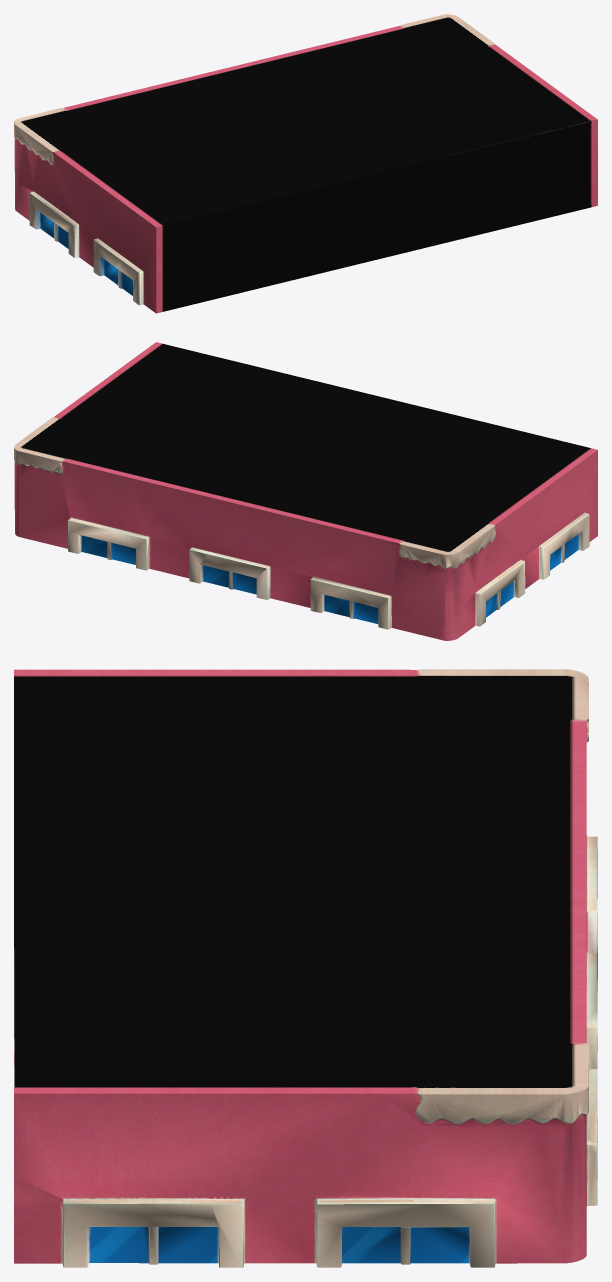
Rendered from 6-upper-walls-back.fbx.
3 views of the same model, one above another, from view 1: azimuth 30°, elevation 25°; view 2: azimuth 150°, elevation 25°; view 3: azimuth 270°, elevation 25° (orthographic). The views are drawn at different scales.
Parts seen in each view (by area): view 1: upper-walls-back; view 2: upper-walls-back; view 3: upper-walls-back.
Boxes of the visible parts, x1=… form: upper-walls-back: x1=14, y1=14, x2=597, y2=313; upper-walls-back: x1=14, y1=342, x2=597, y2=640; upper-walls-back: x1=14, y1=669, x2=597, y2=1267.
Bounding box in the file's own units: 9639 × 1762 × 5497.
1 material, 1 textured.
